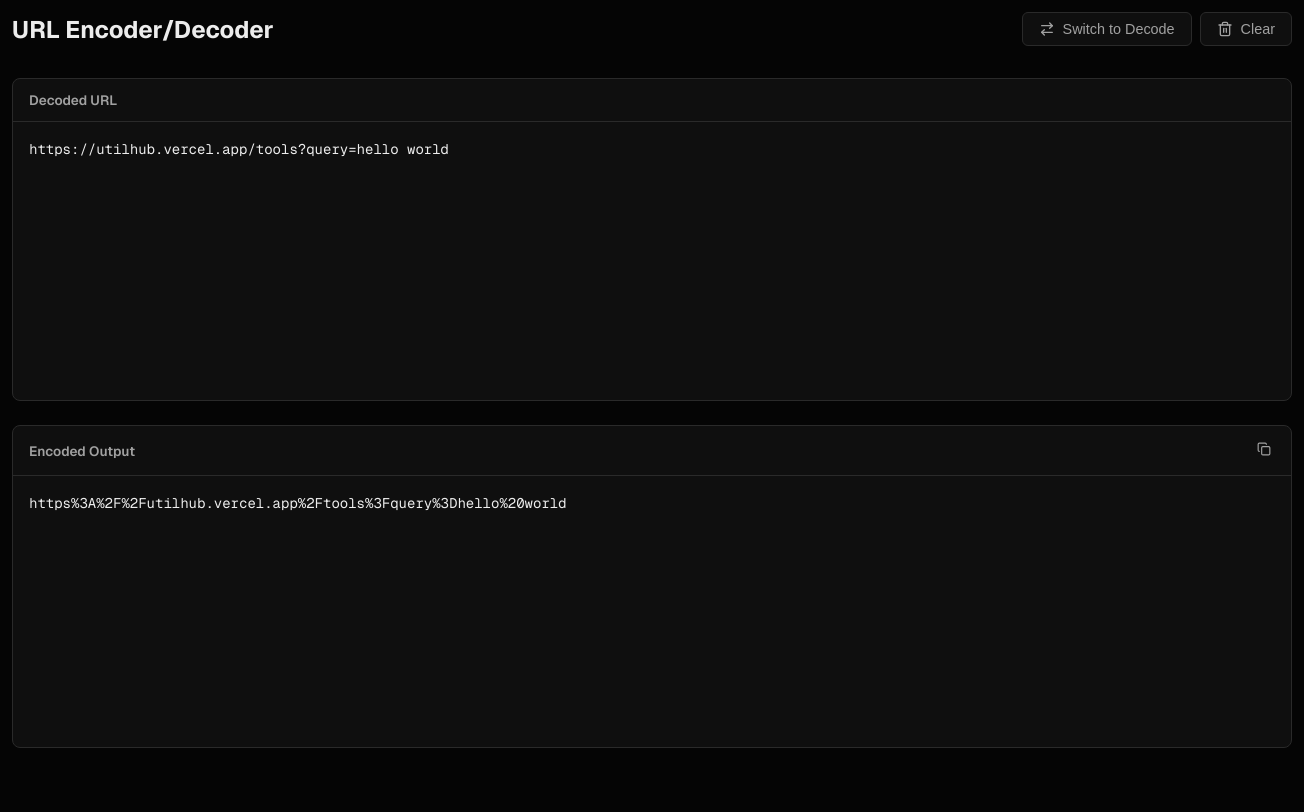
it: UrlTool › shows error for invalid URI
Click the button titled "Switch Mode": [1107, 29] box left=1022, top=12, right=1192, bottom=46
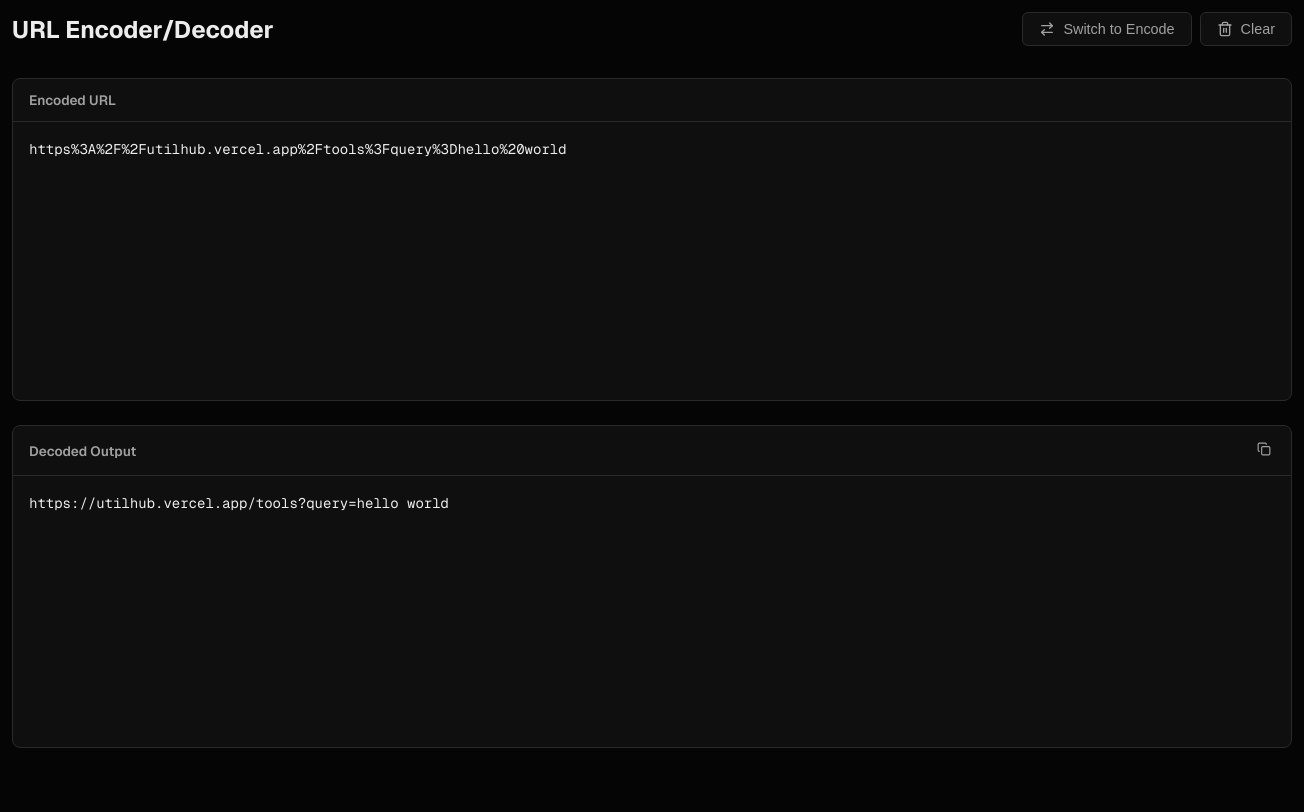
Replace the text in the text box with placeholder "Paste URL to decode..." below "Encoded URL" with "%": [652, 261] box left=13, top=122, right=1291, bottom=400
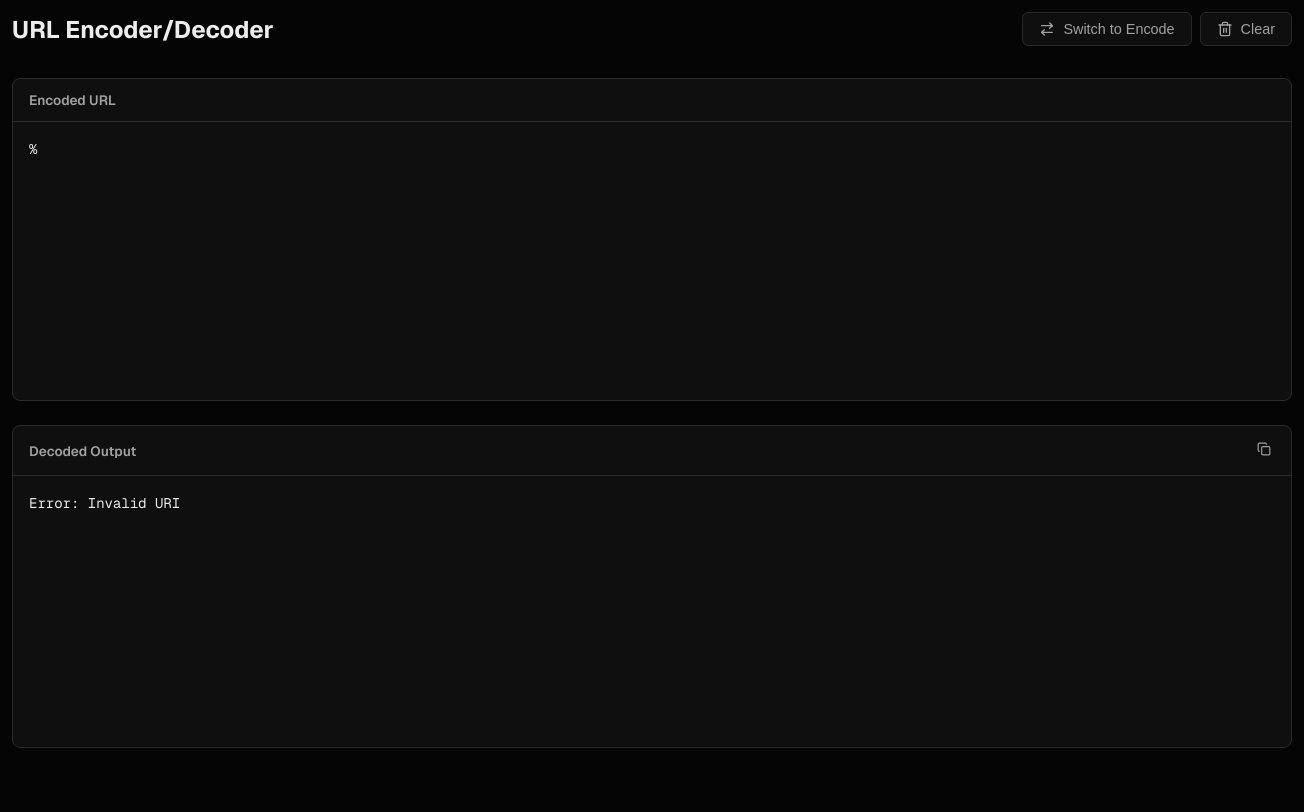
expect the text box with placeholder "Result will appear here..." below "Decoded Output" holds "Error: Invalid URI": met, box left=13, top=476, right=1291, bottom=747
